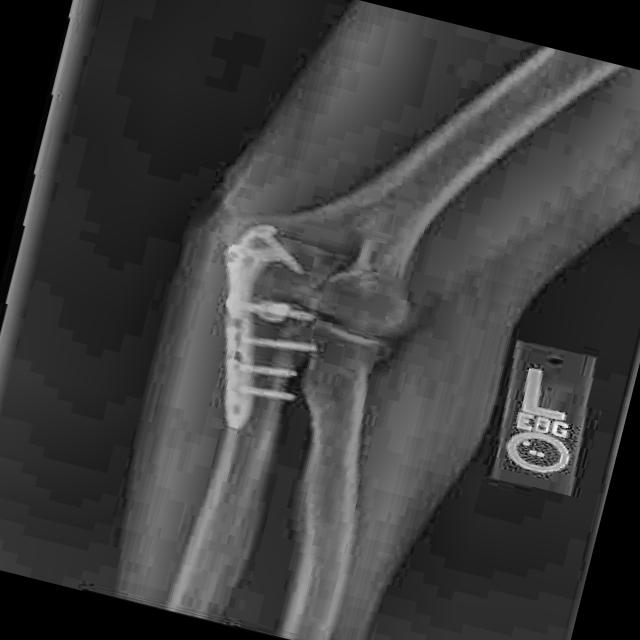elbow positive: (284, 227, 373, 293)
